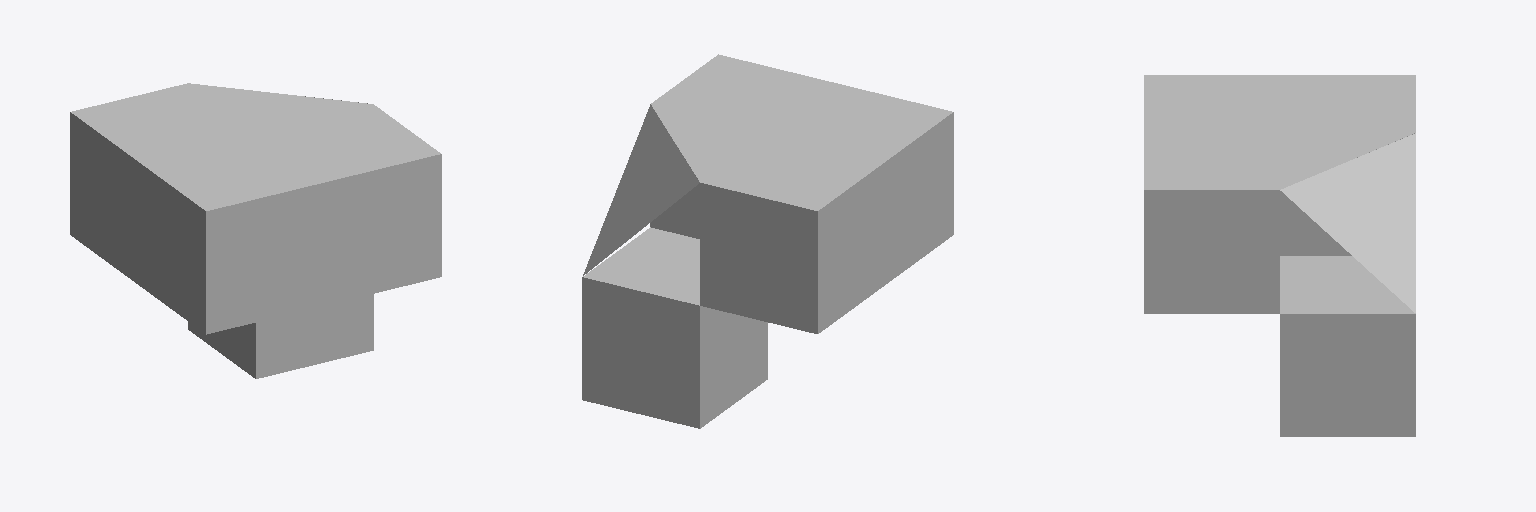
3 views of the same model, side by side, from view 1: azimuth 30°, elevation 25°; view 2: azimuth 150°, elevation 25°; view 3: azimuth 270°, elevation 25° (orthographic).
Visible parts, largest first — view 1: ne.002; view 2: ne.002; view 3: ne.002.
Part boxes in pixels (bbox=[...]): ne.002: bbox=[70, 83, 441, 378]; ne.002: bbox=[582, 54, 953, 428]; ne.002: bbox=[1144, 75, 1415, 436].
Bounding box in the file's own units: 0.1251 × 0.1251 × 0.1251.